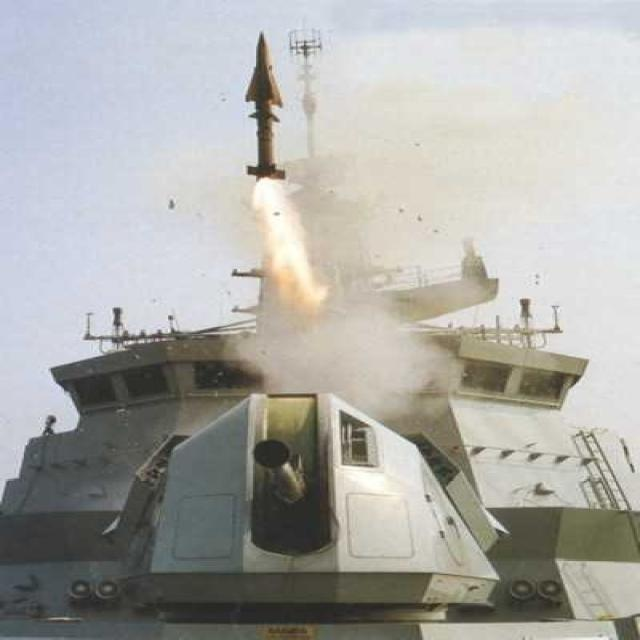missile: (237, 34, 290, 186)
